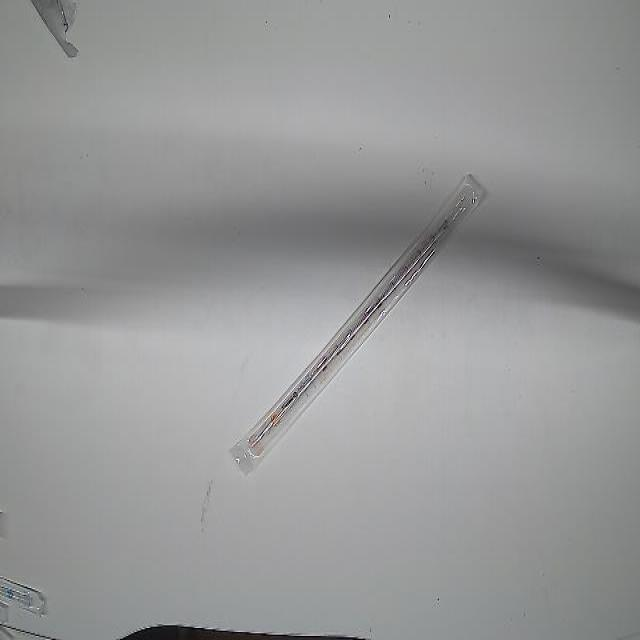Serelogical Pipet 10 mL: (227, 162, 491, 476)
